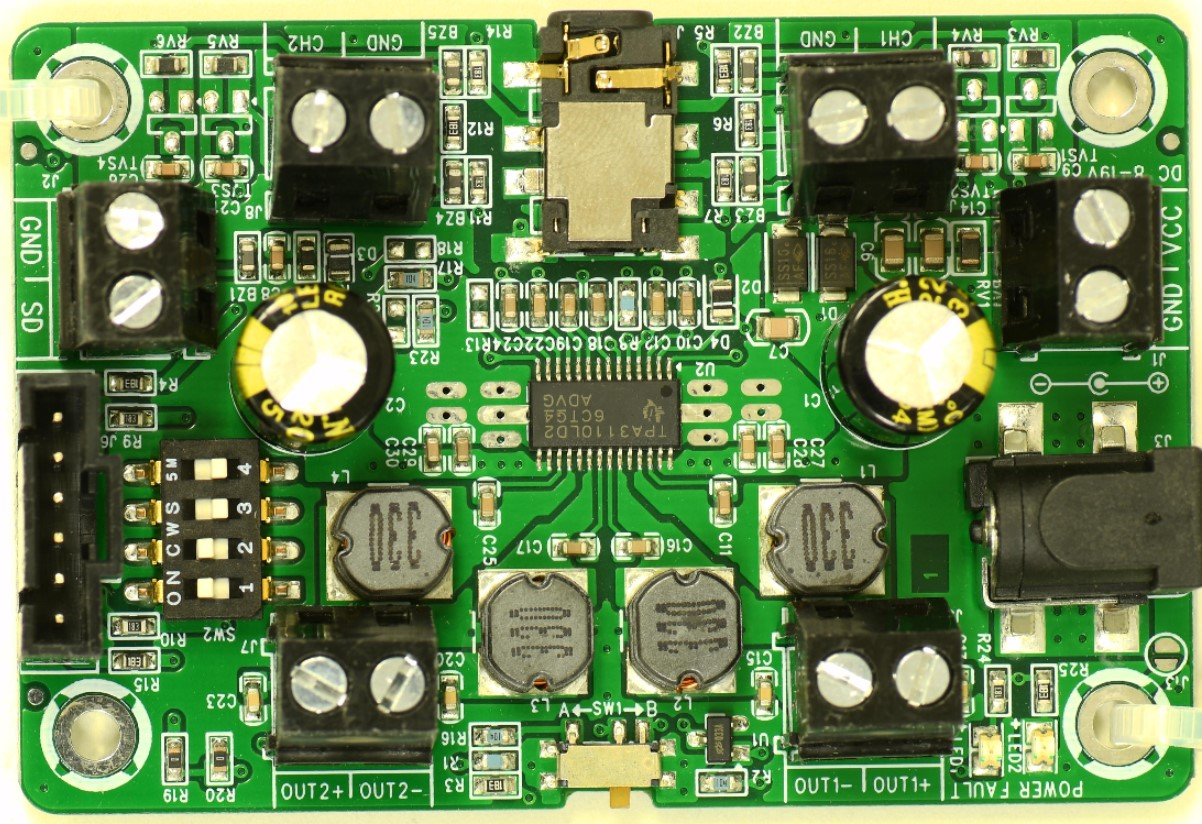Induktor: (624, 568, 741, 695), (760, 484, 890, 594), (477, 569, 590, 694), (327, 491, 453, 597)
